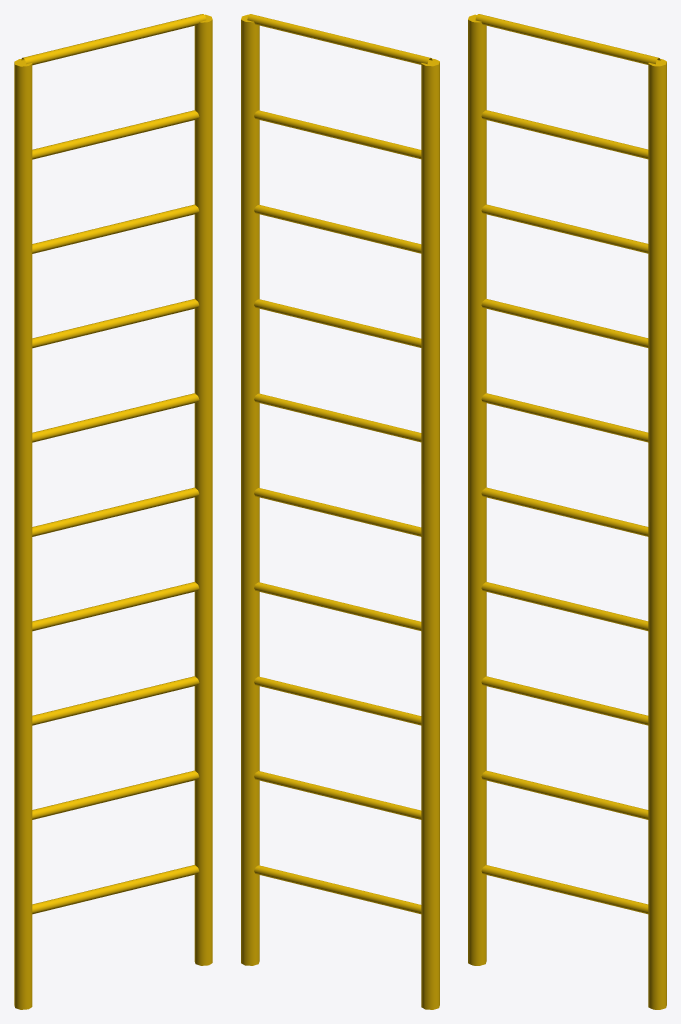
The model's file is Yellow_Ladder_03.FBX.
The picture shows the model from 3 angles, left to right: view 1: azimuth 30°, elevation 25°; view 2: azimuth 150°, elevation 25°; view 3: azimuth 330°, elevation 25°; orthographic projection.
Visible parts, largest first — view 1: Yellow_Ladder_03; view 2: Yellow_Ladder_03; view 3: Yellow_Ladder_03.
Boxes of the visible parts, box(x1,y1,x2,y2) form: Yellow_Ladder_03: box(14, 14, 212, 1009); Yellow_Ladder_03: box(241, 14, 439, 1009); Yellow_Ladder_03: box(468, 14, 666, 1009).
Bounding box in the file's own units: 1.09 × 5.02 × 0.091.
